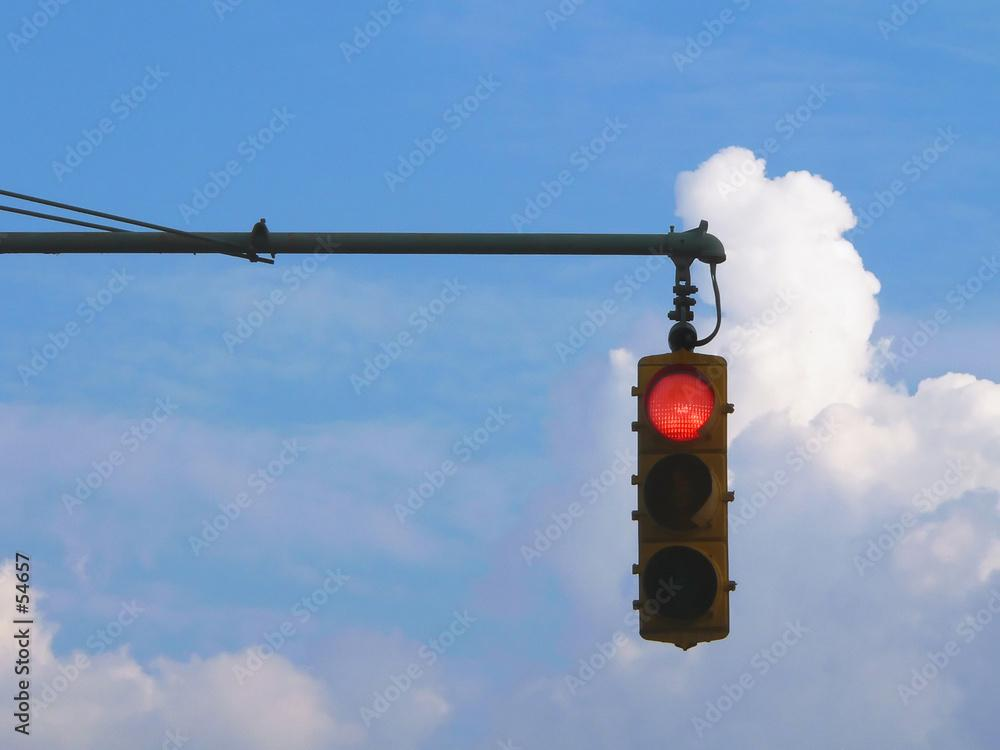red: (616, 346, 758, 658)
